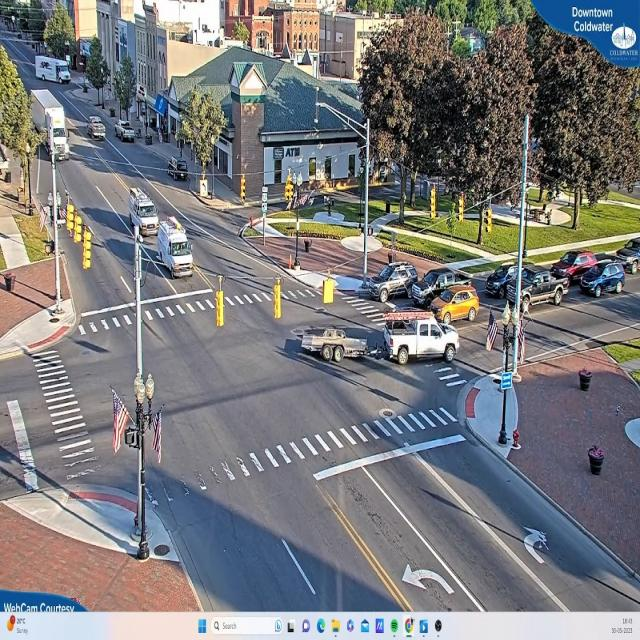car: (386, 314, 460, 364), (489, 267, 569, 309), (157, 219, 193, 279), (368, 265, 418, 303), (429, 290, 480, 324), (128, 190, 160, 242), (580, 263, 628, 297), (551, 252, 600, 280), (117, 122, 137, 145), (89, 120, 105, 141)
truck: (36, 56, 74, 84)
